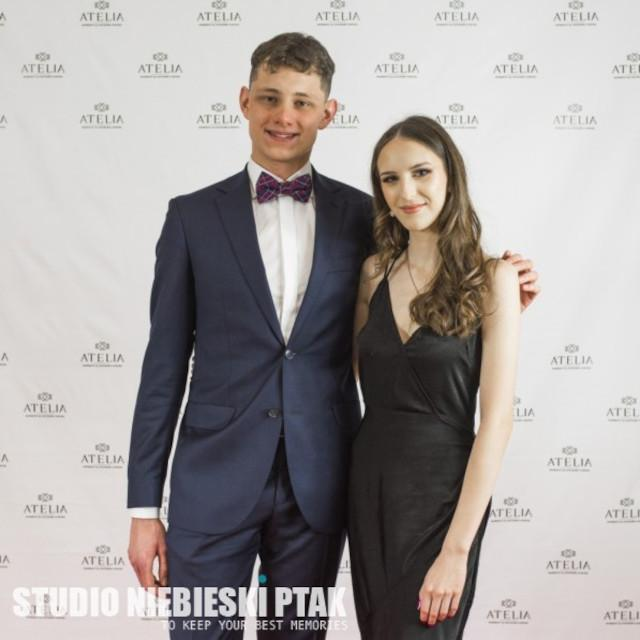kobieta: (354, 114, 516, 640)
mezczyzna: (125, 31, 377, 640)
